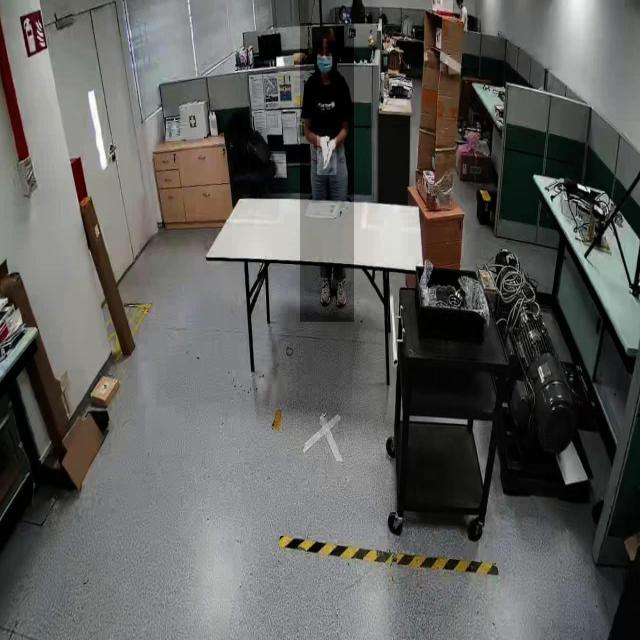face_mask: (315, 36, 333, 84)
hand_glove: (317, 129, 337, 175)
head_nohelmet: (312, 25, 336, 42)
person: (300, 23, 354, 323)
shoes: (316, 270, 335, 310), (332, 274, 350, 312)
